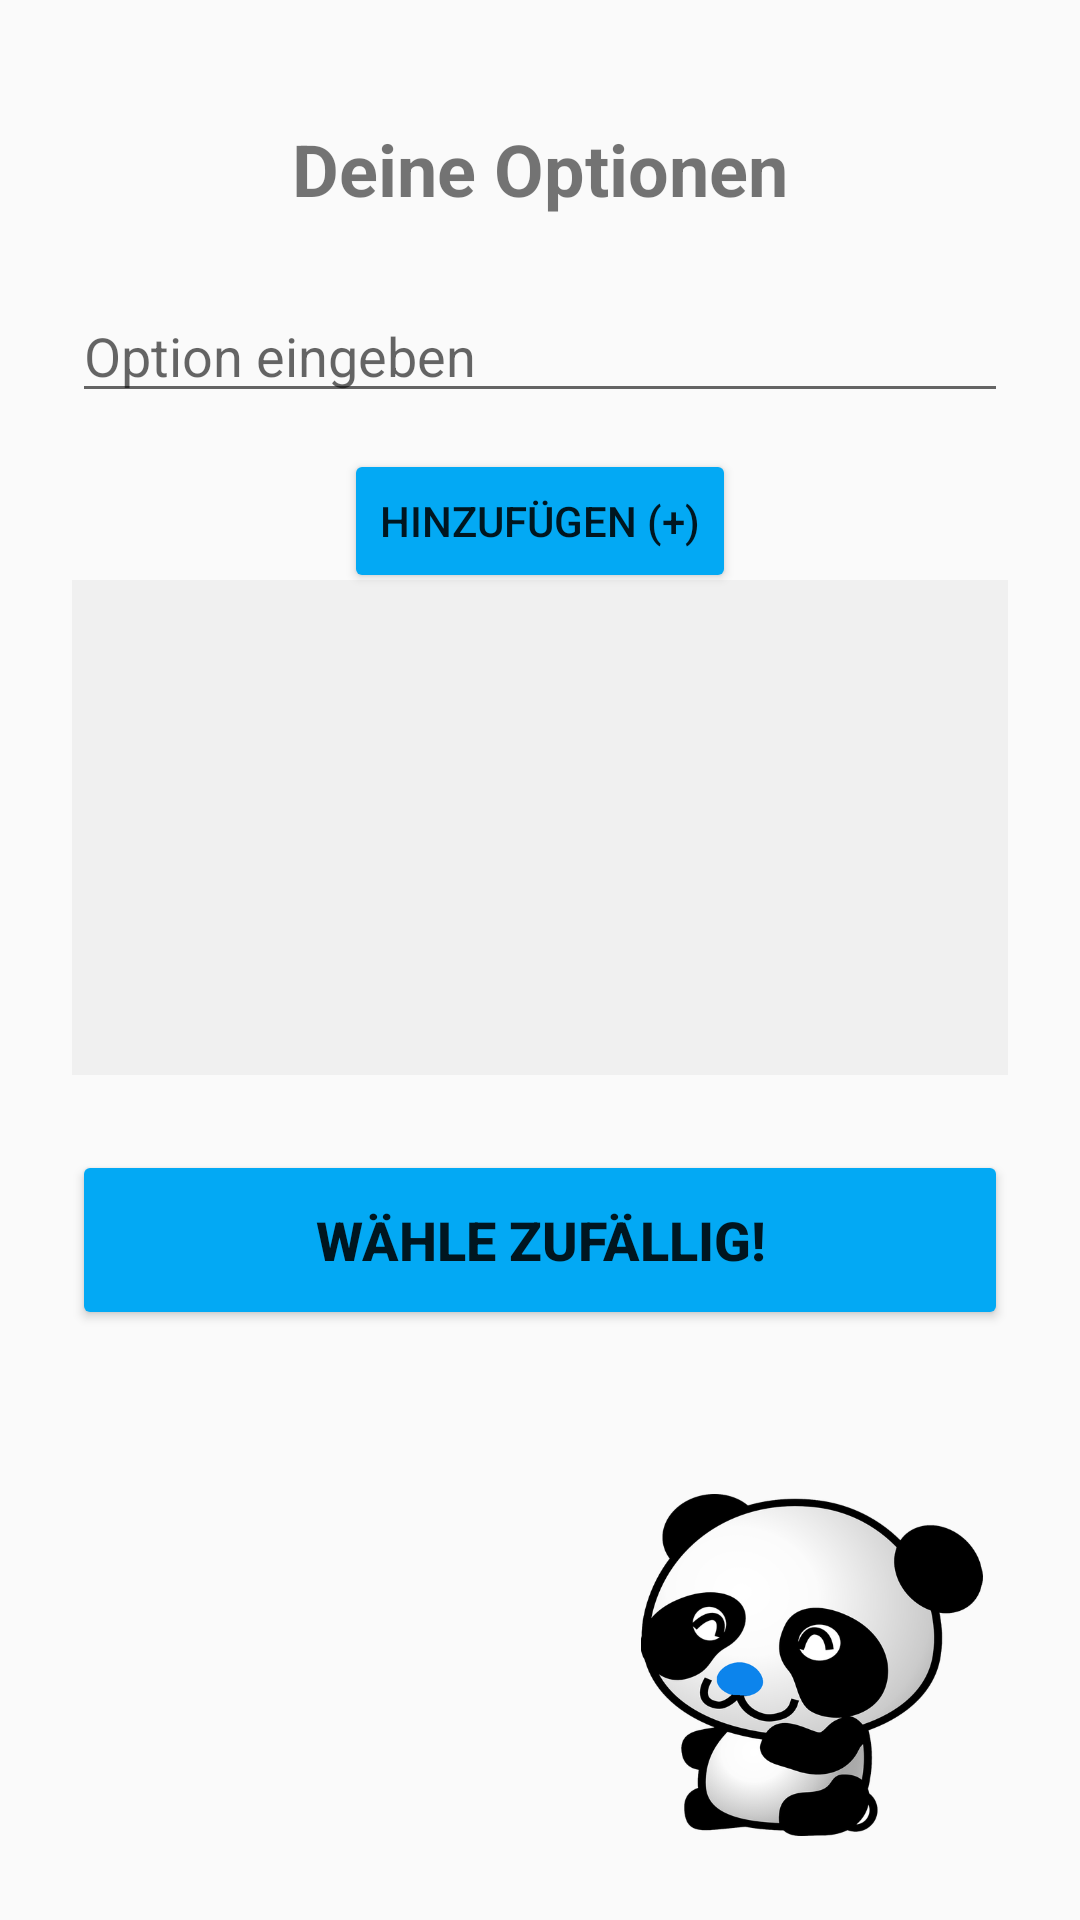

Locate icon controls on the screen. Image size 1080 × 1920, boxes as [x1, y1, x2, y2].
Panda: [641, 1494, 983, 1836]
